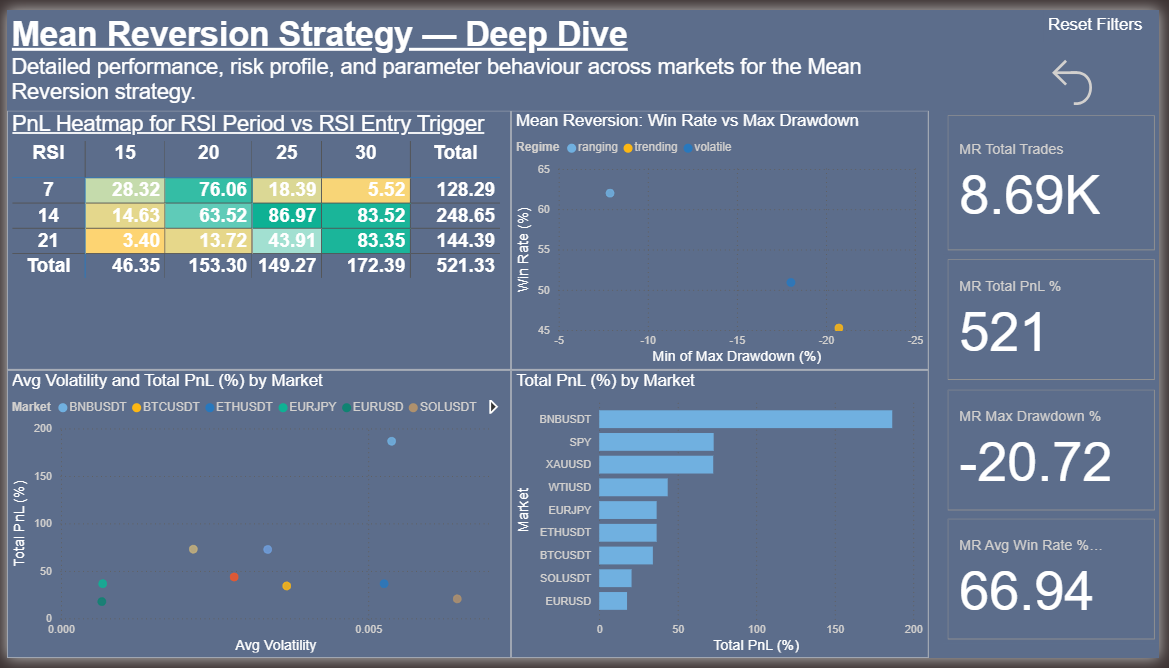

This screenshot's page, from the dashboard's own definition file:
{"tool":"powerbi","page":{"name":"Mean Reversion Deep Dive","canvas":[1280,720],"ordinal":3},"visuals":[{"type":"pivotTable","title":"PnL Heatmap for RSI Period vs RSI Entry Trigger","fields":{"Columns":["rsi_strategy_results.Lower RSI Trigger"],"Values":["Sum(rsi_strategy_results.Total PnL (%))"],"Rows":["rsi_strategy_results.RSI Period"]},"box":[0,112,560,288],"z":0},{"type":"scatterChart","fields":{"Y":["Sum(rsi_strategy_results.Total PnL (%))"],"X":["Avg(rsi_strategy_results.Volatility)"],"Series":["rsi_strategy_results.Market"]},"box":[0,400,560,320],"z":1000},{"type":"scatterChart","title":"Mean Reversion: Win Rate vs Max Drawdown","fields":{"X":["Min(rsi_strategy_results.Max Drawdown (%))"],"Y":["Avg(rsi_strategy_results.Win Rate (%))"],"Series":["rsi_strategy_results.Regime"]},"box":[560,112,464,288],"z":2000},{"type":"barChart","title":"Total PnL (%) by Market","fields":{"Y":["Sum(rsi_strategy_results.Total PnL (%))"],"Category":["rsi_strategy_results.Market"]},"box":[560,400,464,320],"z":3000},{"type":"cardVisual","fields":{"Data":["rsi_strategy_results.MR Total Trades"]},"box":[1040,112,240,160],"z":4000},{"type":"cardVisual","fields":{"Data":["rsi_strategy_results.MR Total PnL %"]},"box":[1040,272,240,144],"z":5000},{"type":"cardVisual","fields":{"Data":["rsi_strategy_results.MR Max Drawdown %"]},"box":[1040,416,240,144],"z":6000},{"type":"cardVisual","fields":{"Data":["rsi_strategy_results.MR Avg Win Rate % (Weighted)"]},"box":[1040,560,240,144],"z":7000},{"type":"actionButton","box":[1152,48,128,64],"z":8000},{"type":"textbox","box":[1152,0,128,48],"z":9000},{"type":"textbox","box":[0,0,1040,112],"z":10000}]}

Visuals, with their boxes in screenshot pixels (x1, y1, x2, y2), scaled from the page's 1280x720 canvas onto the 1169x668 screenshot:
"PnL Heatmap for RSI Period vs RSI Entry Trigger" pivotTable: <region>0, 104, 511, 371</region>
scatterChart - Sum(rsi_strategy_results.Total PnL (%)) x Avg(rsi_strategy_results.Volatility): <region>0, 371, 511, 667</region>
"Mean Reversion: Win Rate vs Max Drawdown" scatterChart: <region>511, 104, 935, 371</region>
"Total PnL (%) by Market" barChart: <region>511, 371, 935, 667</region>
cardVisual - rsi_strategy_results.MR Total Trades: <region>950, 104, 1168, 252</region>
cardVisual - rsi_strategy_results.MR Total PnL %: <region>950, 252, 1168, 386</region>
cardVisual - rsi_strategy_results.MR Max Drawdown %: <region>950, 386, 1168, 520</region>
cardVisual - rsi_strategy_results.MR Avg Win Rate % (Weighted): <region>950, 520, 1168, 653</region>
actionButton: <region>1052, 45, 1168, 104</region>
textbox: <region>1052, 0, 1168, 45</region>
textbox: <region>0, 0, 950, 104</region>
